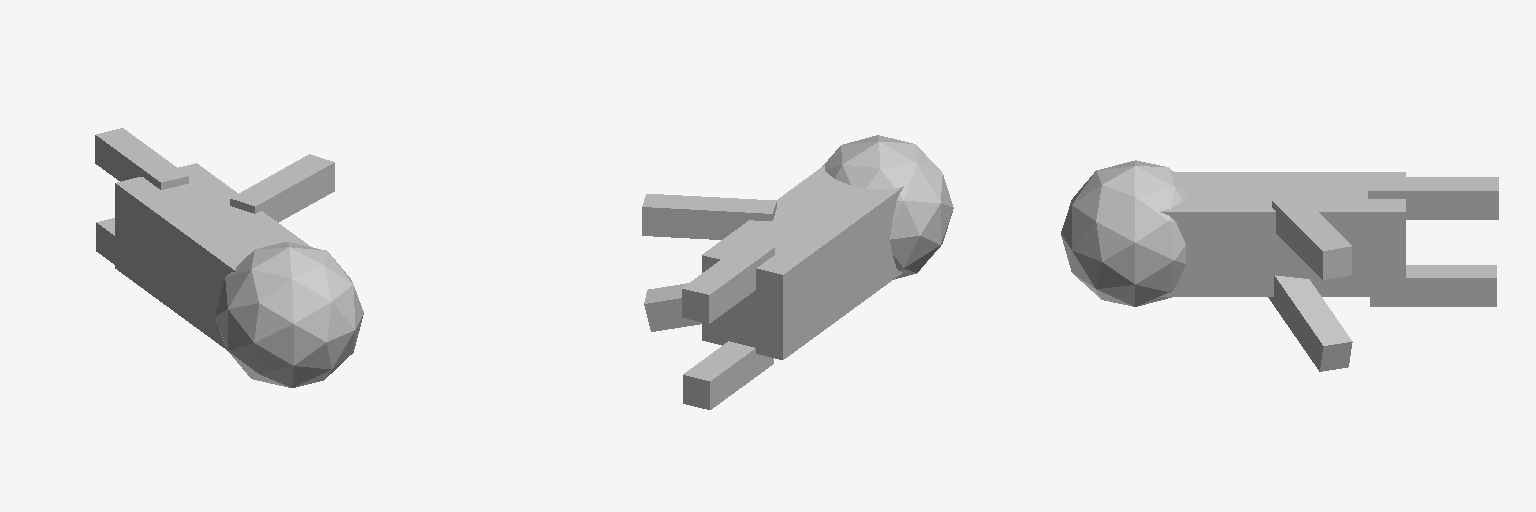
File: mask.obj
The picture shows the model from 3 angles: view 1: azimuth 30°, elevation 25°; view 2: azimuth 150°, elevation 25°; view 3: azimuth 270°, elevation 25°; orthographic projection.
Size of the model in its own units: 0.7247 by 0.4906 by 1.37.